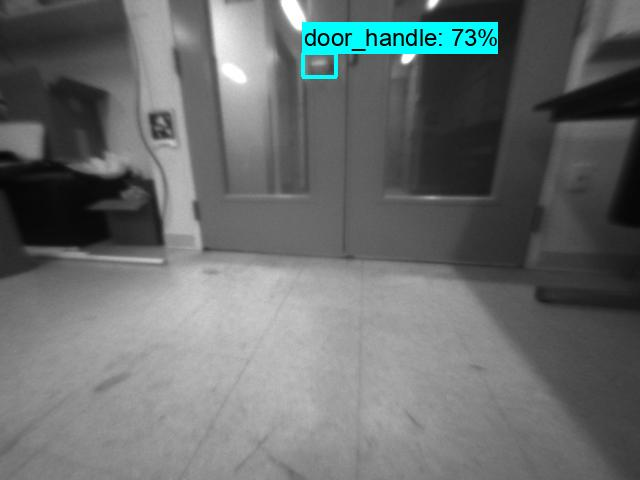door_handle: (302, 52, 337, 76)
